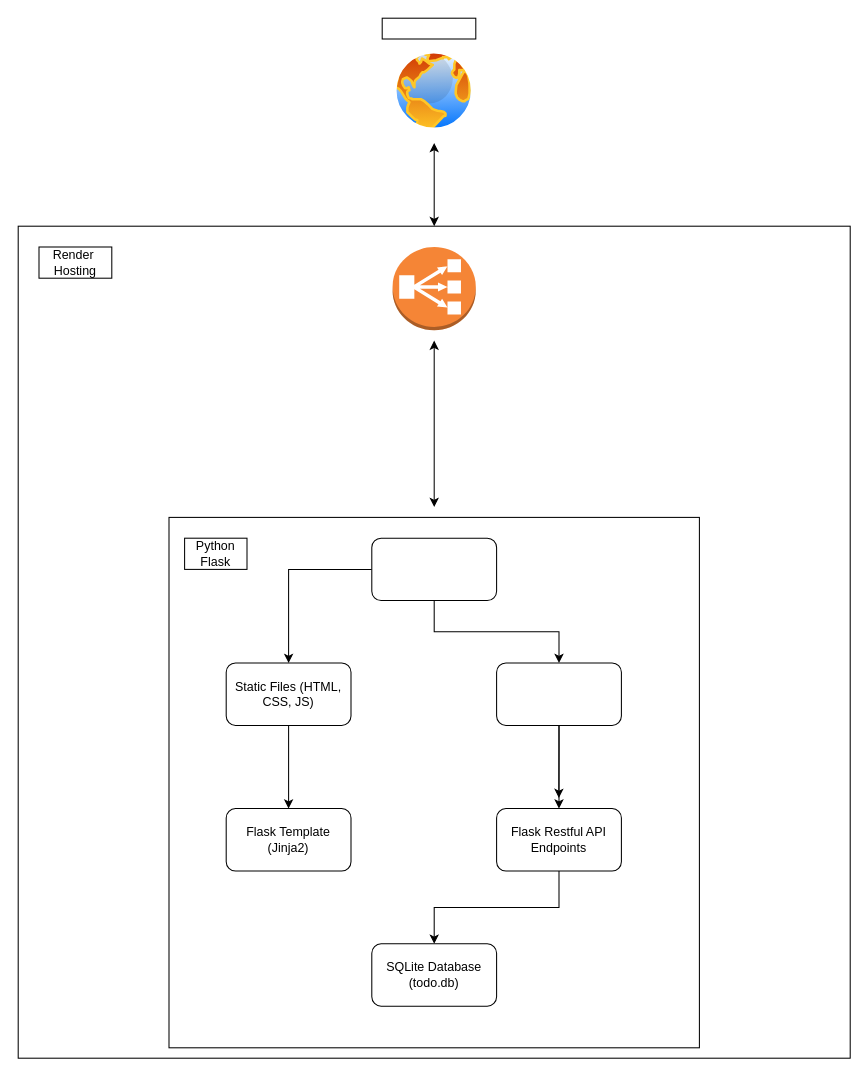
Some shapes in this 868 by 1076 pixel diagram are drawn without their labels. Each missing label, with the centre of its shape:
Flask App (App.py): the point at 558,693
Flask Web Server: WSGI (Web Server Gateway Interface): the point at 434,569
Internet: the point at 428,28
